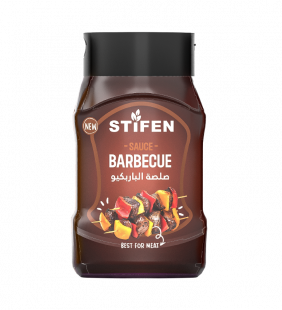FURKETTA: (66, 24, 213, 284)
